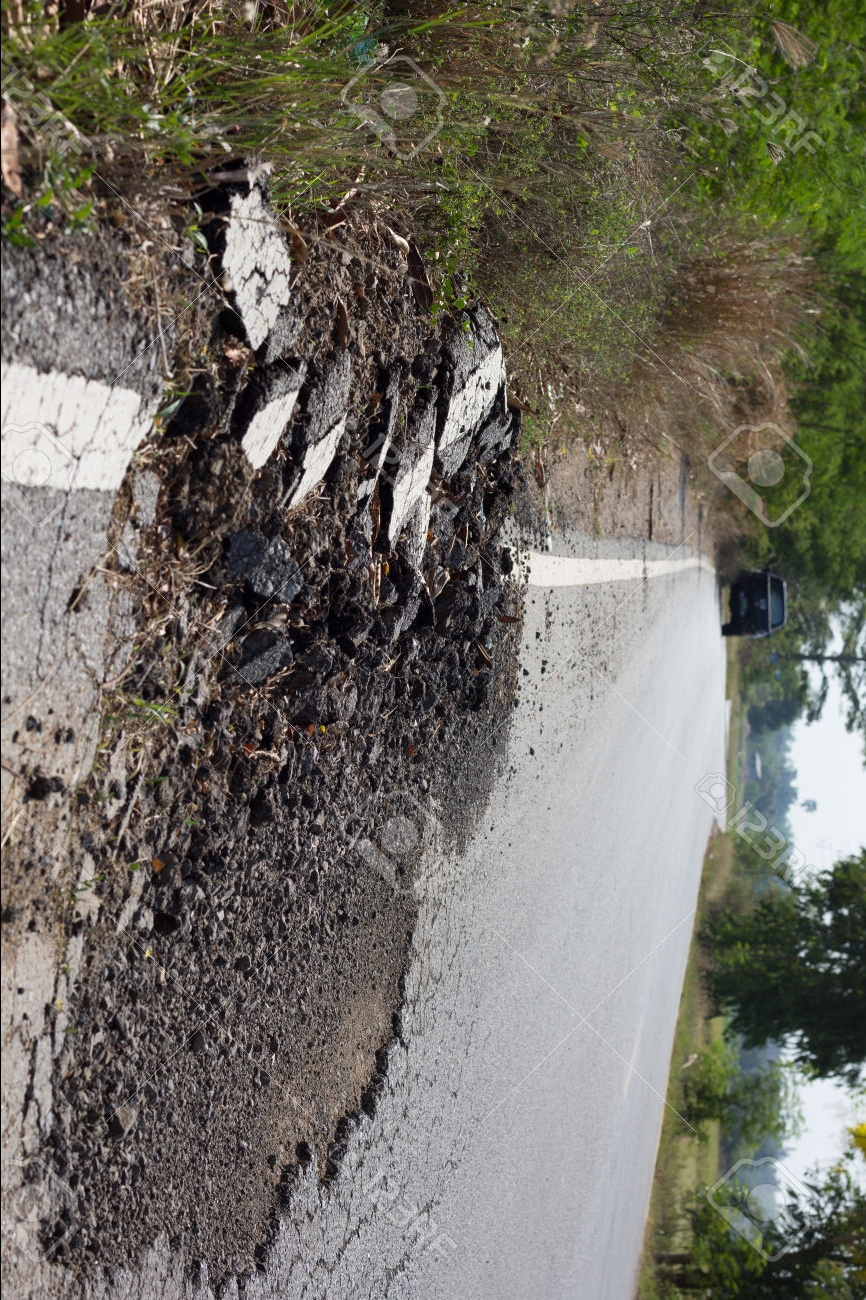pothole: (23, 728, 431, 1299)
